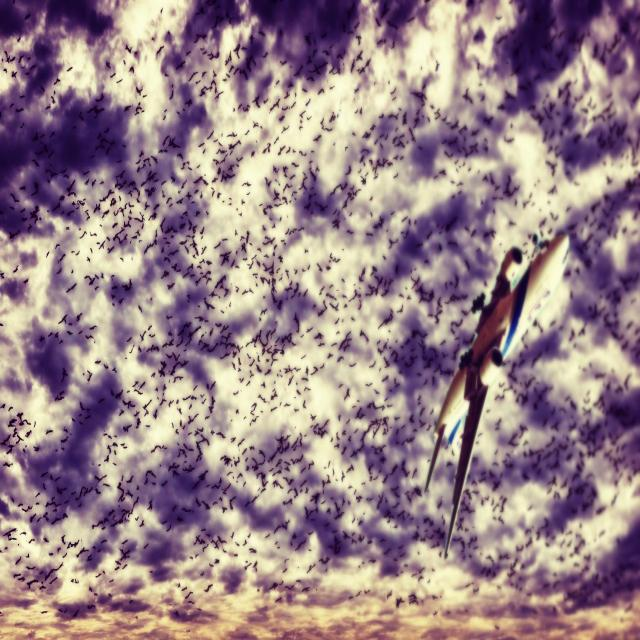airplane: (423, 230, 570, 559)
